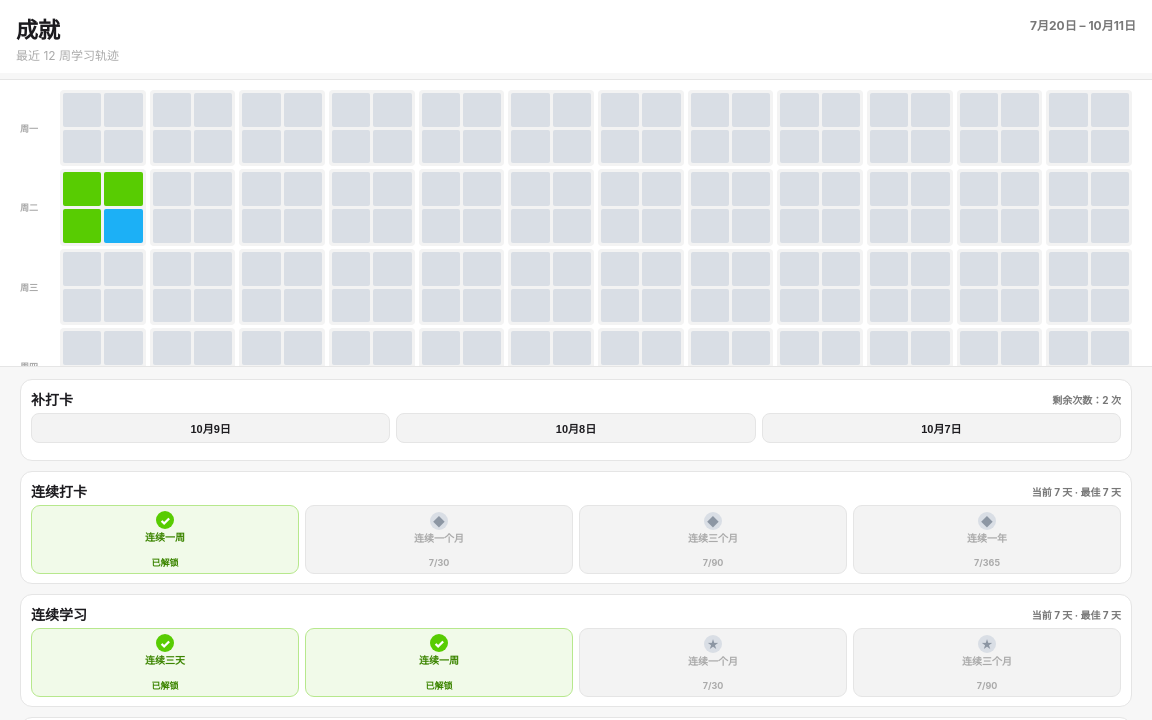
Test case: AchievementsPage › opens day detail modal when clicking a day cell
# Click the first day cell
Click the 1st button with class "day-cell": coordinates (103, 128) left=60, top=90, right=146, bottom=166
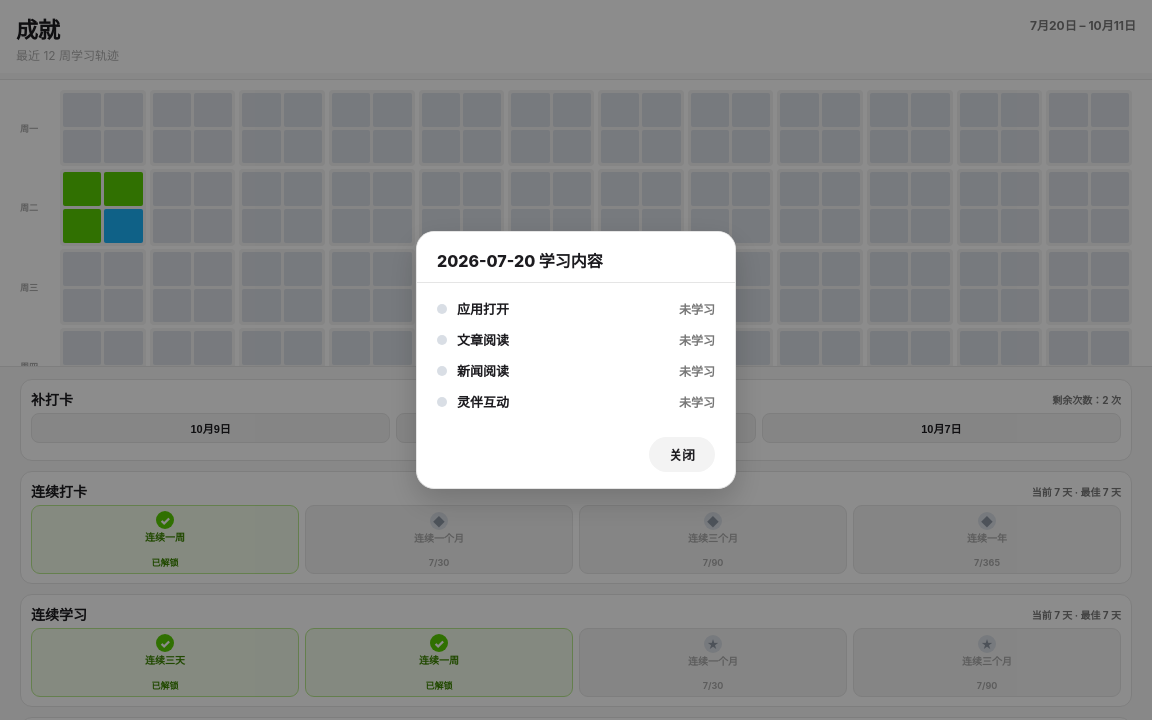
Expected: the dialog with class "day-detail-modal" is shown, left=416, top=231, right=736, bottom=489
Expected: the dialog with class "day-detail-modal" shows "学习内容", left=437, top=251, right=603, bottom=271
Expected: the dialog with class "day-detail-modal" shows "应用打开", left=457, top=301, right=509, bottom=317
# Click close button
Click the button with class "btn-dialog-close": coordinates (682, 454) left=649, top=437, right=715, bottom=472
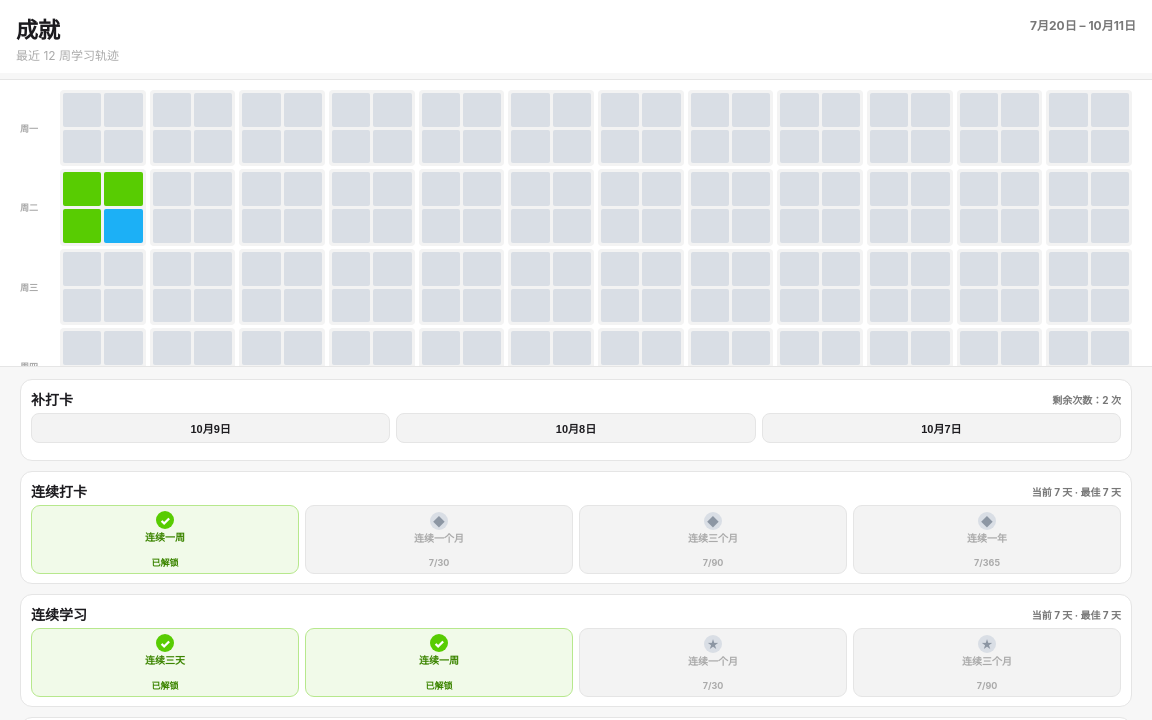
Expected: the dialog with class "day-detail-modal" is gone
